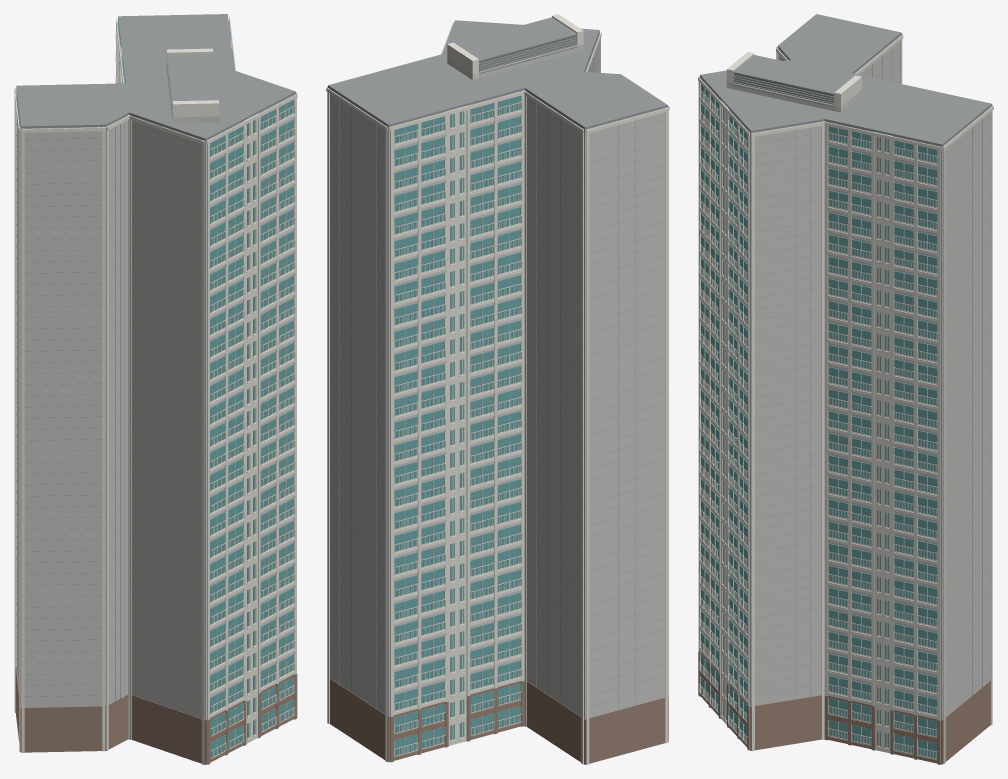
Rendered from bespoke-jamsil-els-106.glb.
The picture shows the model from 3 angles, left to right: view 1: azimuth 30°, elevation 25°; view 2: azimuth 150°, elevation 25°; view 3: azimuth 270°, elevation 25°; orthographic projection. The views are drawn at different scales.
Parts seen in each view (by area): view 1: Els106_editable_Els106_light_grey_solid_wall003, Els106_white_exact_chunk_0, Els106_editable_Els106_turquoise_balcony_glazing003, Els106_editable_Els106_modest_grey_flat_roof_caps003, Els106_white_exact_chunk_1, Els106_editable_Els106_muted_ground_wall003, Els106_white_exact_chunk_3; view 2: Els106_editable_Els106_light_grey_solid_wall003, Els106_editable_Els106_turquoise_balcony_glazing003, Els106_white_exact_chunk_3, Els106_editable_Els106_modest_grey_flat_roof_caps003, Els106_white_exact_chunk_2, Els106_editable_Els106_muted_ground_wall003, Els106_white_exact_chunk_0, Els106_editable_Els106_narrow_charcoal_service_strips003; view 3: Els106_editable_Els106_light_grey_solid_wall003, Els106_editable_Els106_turquoise_balcony_glazing003, Els106_white_exact_chunk_1, Els106_editable_Els106_modest_grey_flat_roof_caps003, Els106_white_exact_chunk_2, Els106_white_exact_chunk_0, Els106_editable_Els106_muted_ground_wall003, Els106_white_exact_chunk_3, Els106_editable_Els106_narrow_charcoal_service_strips003.
Part boxes in pixels (x1=…): Els106_editable_Els106_light_grey_solid_wall003: x1=16, y1=19, x2=295, y2=721; Els106_white_exact_chunk_0: x1=14, y1=87, x2=276, y2=764; Els106_editable_Els106_turquoise_balcony_glazing003: x1=117, y1=20, x2=293, y2=757; Els106_editable_Els106_modest_grey_flat_roof_caps003: x1=16, y1=14, x2=295, y2=718; Els106_white_exact_chunk_1: x1=206, y1=40, x2=297, y2=738; Els106_editable_Els106_muted_ground_wall003: x1=15, y1=667, x2=297, y2=764; Els106_white_exact_chunk_3: x1=116, y1=18, x2=219, y2=122; Els106_editable_Els106_light_grey_solid_wall003: x1=328, y1=32, x2=667, y2=722; Els106_editable_Els106_turquoise_balcony_glazing003: x1=394, y1=95, x2=520, y2=755; Els106_white_exact_chunk_3: x1=389, y1=14, x2=583, y2=761; Els106_editable_Els106_modest_grey_flat_roof_caps003: x1=328, y1=17, x2=667, y2=717; Els106_white_exact_chunk_2: x1=326, y1=86, x2=467, y2=761; Els106_editable_Els106_muted_ground_wall003: x1=330, y1=678, x2=668, y2=764; Els106_white_exact_chunk_0: x1=523, y1=32, x2=669, y2=764; Els106_editable_Els106_narrow_charcoal_service_strips003: x1=479, y1=35, x2=576, y2=70; Els106_editable_Els106_light_grey_solid_wall003: x1=700, y1=35, x2=991, y2=731; Els106_editable_Els106_turquoise_balcony_glazing003: x1=701, y1=84, x2=937, y2=758; Els106_white_exact_chunk_1: x1=698, y1=77, x2=913, y2=754; Els106_editable_Els106_modest_grey_flat_roof_caps003: x1=700, y1=14, x2=991, y2=717; Els106_white_exact_chunk_2: x1=824, y1=106, x2=993, y2=764; Els106_white_exact_chunk_0: x1=698, y1=33, x2=903, y2=732; Els106_editable_Els106_muted_ground_wall003: x1=698, y1=651, x2=990, y2=764; Els106_white_exact_chunk_3: x1=726, y1=52, x2=992, y2=112; Els106_editable_Els106_narrow_charcoal_service_strips003: x1=734, y1=73, x2=834, y2=103.
Size of the model in its own units: 34.07 by 76.75 by 32.22.
